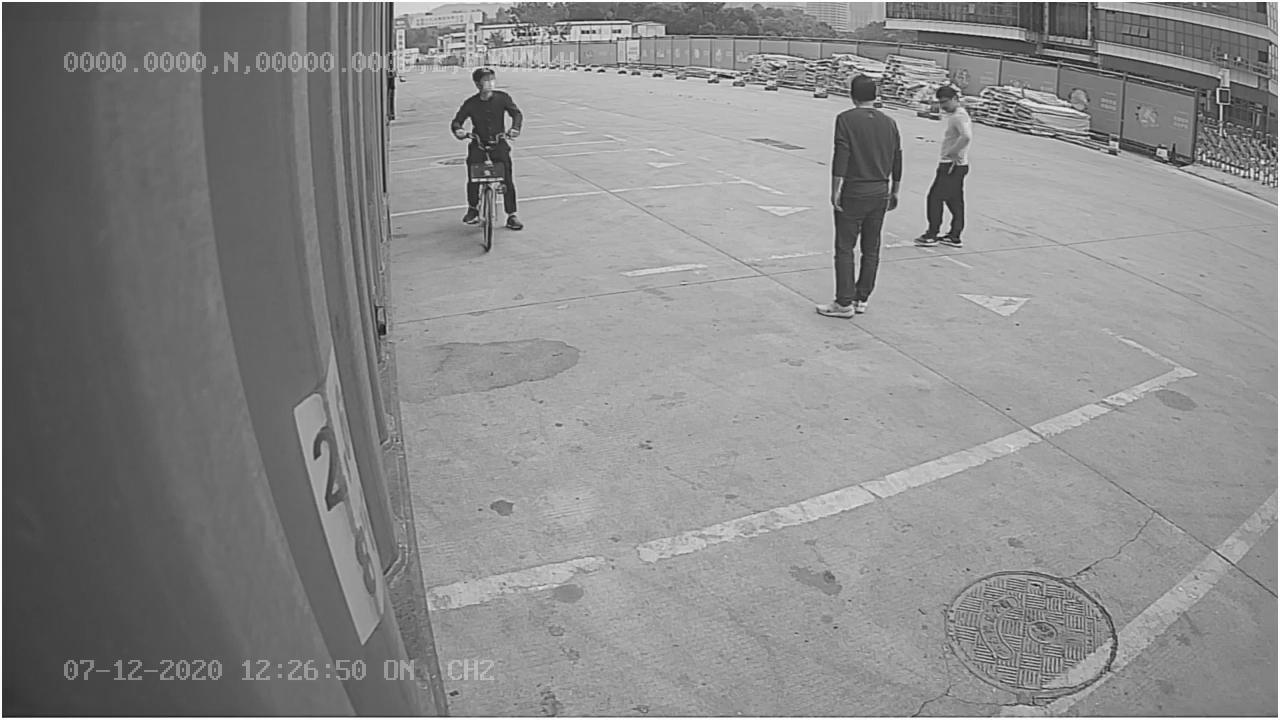person: (812, 67, 909, 323)
